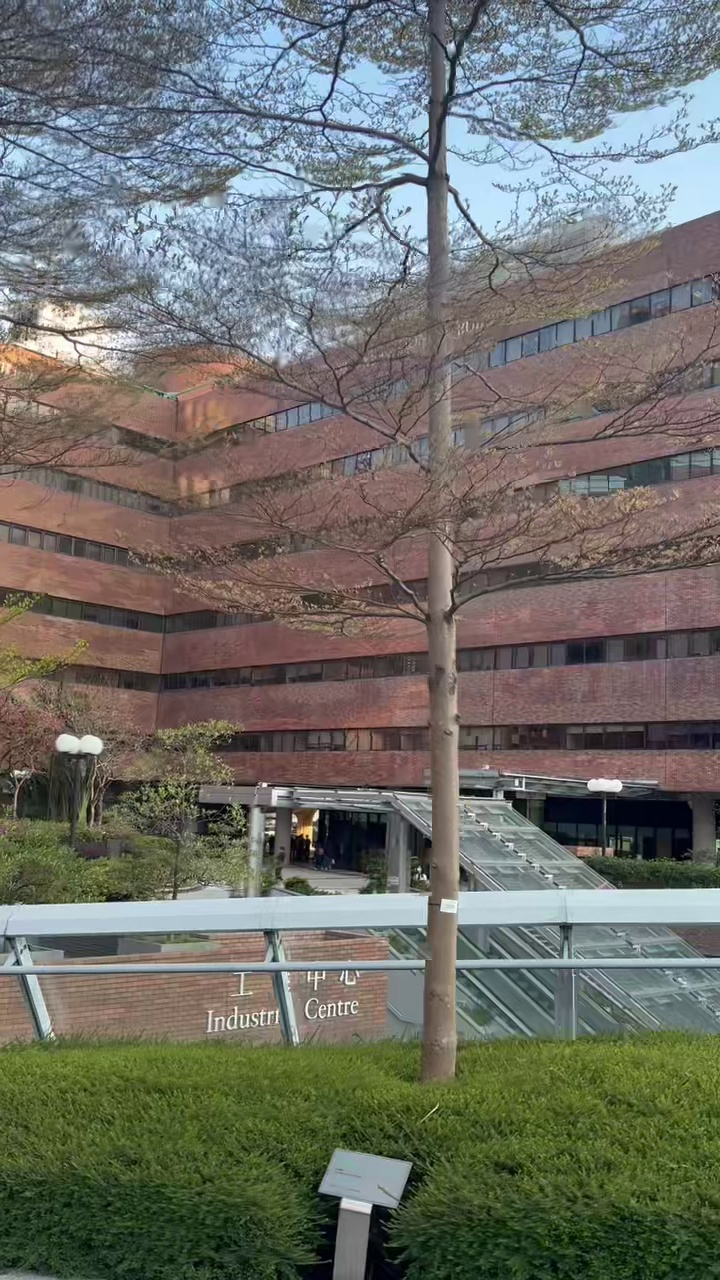Terminalia mantaly: (0, 0, 719, 1078)
